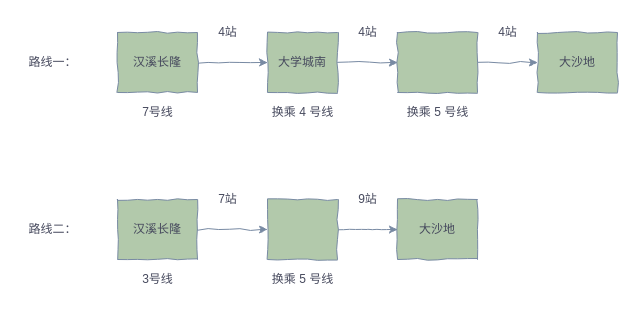
Image size: 635x311. Some labels were removed from this diagram. The centre of each missing label's shape, as x and y in pixels:
珠江新城: point (302, 229)
车陂南: point (437, 62)
